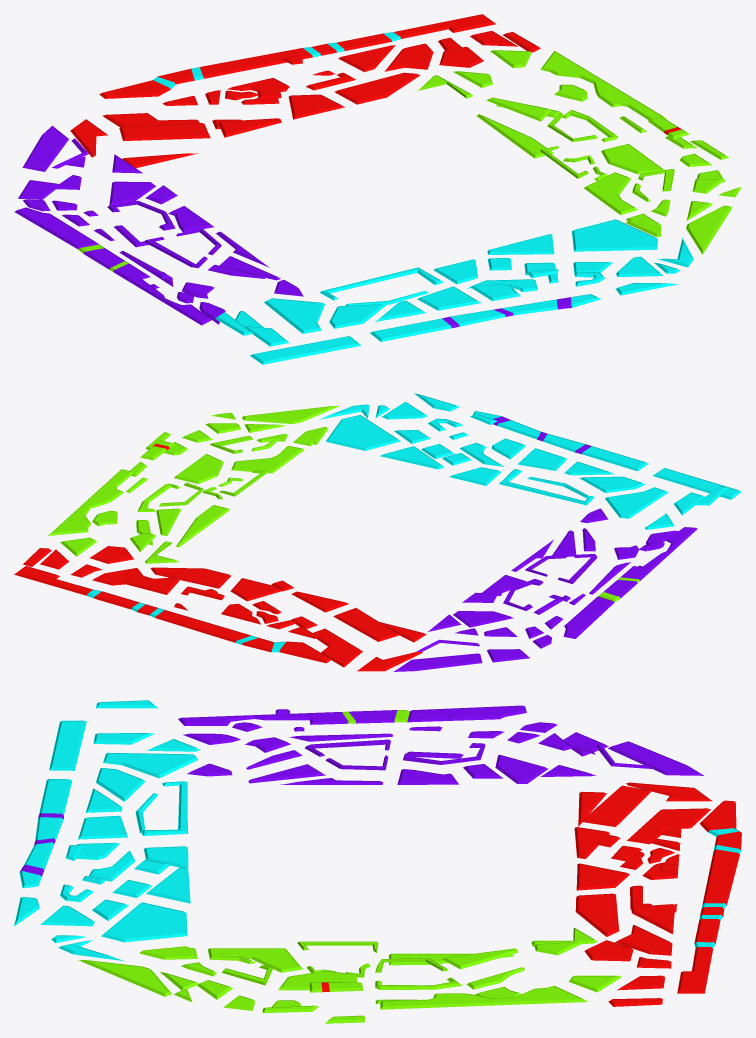
Rendered from Middle_Floor_Rooftops.fbx.
The picture shows the model from 3 angles, top to bottom: view 1: azimuth 30°, elevation 25°; view 2: azimuth 150°, elevation 25°; view 3: azimuth 270°, elevation 25°; orthographic projection. The views are drawn at different scales.
Parts seen in each view (by area): view 1: Object066, Object095, Object013, Object030, Object047, Object080, Object006, Object010, Object058, Object034, Object085, Object042 (+18 smaller); view 2: Object066, Object095, Object013, Object030, Object047, Object006, Object058, Object080, Object082, Object085, Object010, Object034 (+16 smaller); view 3: Object066, Object095, Object013, Object030, Object047, Object006, Object080, Object058, Object010, Object082, Object085, Object034 (+29 smaller).
Boxes of the visible parts, x1,y1,x2,y2 form: Object066: [99, 14, 496, 98]; Object095: [14, 207, 211, 325]; Object013: [370, 294, 601, 341]; Object030: [572, 219, 657, 251]; Object047: [540, 51, 666, 120]; Object080: [119, 123, 210, 140]; Object006: [264, 298, 324, 333]; Object010: [250, 336, 361, 364]; Object058: [334, 72, 420, 104]; Object034: [584, 172, 638, 214]; Object085: [22, 126, 68, 171]; Object042: [601, 144, 663, 174]; Object066: [14, 566, 331, 663]; Object095: [563, 527, 697, 638]; Object013: [473, 411, 648, 471]; Object030: [326, 415, 400, 450]; Object047: [48, 469, 133, 535]; Object006: [605, 487, 668, 518]; Object058: [150, 567, 231, 588]; Object080: [333, 608, 399, 641]; Object082: [313, 628, 362, 667]; Object085: [394, 653, 482, 671]; Object010: [653, 468, 741, 499]; Object034: [231, 446, 304, 473]; Object066: [677, 800, 741, 993]; Object095: [178, 705, 526, 725]; Object013: [19, 779, 72, 888]; Object030: [101, 902, 187, 942]; Object047: [380, 985, 587, 1009]; Object006: [103, 752, 197, 778]; Object080: [581, 785, 651, 826]; Object058: [575, 893, 619, 936]; Object010: [49, 720, 86, 770]; Object082: [627, 808, 710, 844]; Object085: [608, 741, 703, 775]; Object034: [207, 948, 302, 972].
Bounding box in the file's own units: 334 × 16 × 335.
